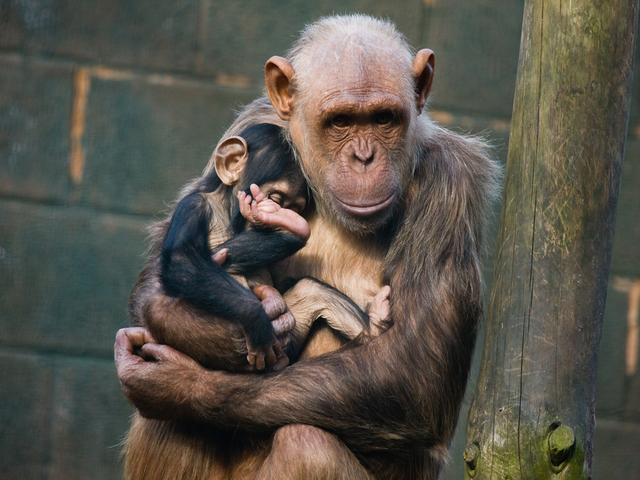monkey: (83, 18, 546, 469), (141, 122, 329, 389)
